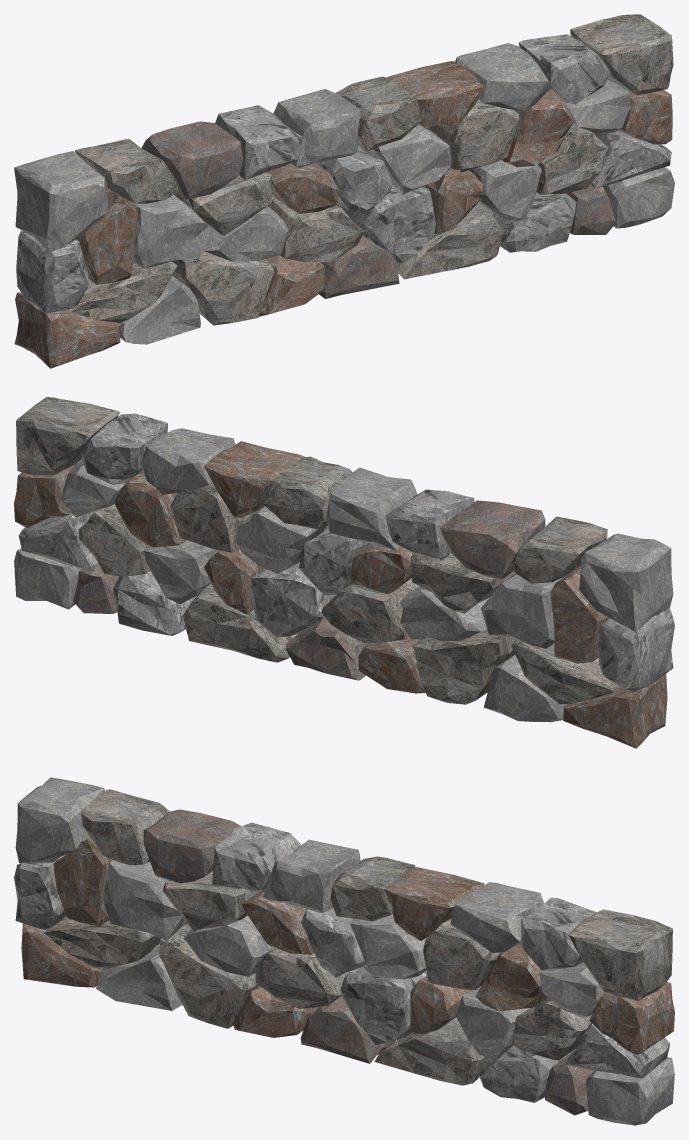
File: drystone_wall_03_basalt.fbx
3 renders of one model, top to bottom at view 1: azimuth 30°, elevation 25°; view 2: azimuth 150°, elevation 25°; view 3: azimuth 330°, elevation 25°, orthographic.
Visible parts, largest first — view 1: Component_1_1, Component_10_1, Component_3_1, Component_36_1, Component_38_1, Component_5_1, Component_21_1, Component_25_1, Component_8_1, Component_19_1, Component_7_1, Component_33_1 (+26 smaller); view 2: Component_1_1, Component_10_1, Component_3_1, Component_36_1, Component_5_1, Component_21_1, Component_38_1, Component_33_1, Component_7_1, Component_8_1, Component_25_1, Component_19_1 (+26 smaller); view 3: Component_10_1, Component_1_1, Component_36_1, Component_3_1, Component_5_1, Component_33_1, Component_19_1, Component_8_1, Component_2_1, Component_30_1, Component_7_1, Component_25_1 (+26 smaller).
Part boxes in pixels (x1=…): Component_1_1: x1=14, y1=151, x2=108, y2=252; Component_10_1: x1=570, y1=14, x2=673, y2=94; Component_3_1: x1=141, y1=121, x2=243, y2=199; Component_36_1: x1=172, y1=250, x2=274, y2=325; Component_38_1: x1=14, y1=292, x2=120, y2=368; Component_5_1: x1=273, y1=89, x2=360, y2=167; Component_21_1: x1=16, y1=230, x2=88, y2=313; Component_25_1: x1=336, y1=185, x2=435, y2=262; Component_8_1: x1=455, y1=43, x2=552, y2=111; Component_19_1: x1=132, y1=195, x2=208, y2=268; Component_7_1: x1=387, y1=61, x2=484, y2=134; Component_33_1: x1=397, y1=202, x2=503, y2=279; Component_1_1: x1=579, y1=533, x2=673, y2=632; Component_10_1: x1=16, y1=397, x2=120, y2=475; Component_3_1: x1=440, y1=500, x2=545, y2=578; Component_36_1: x1=413, y1=629, x2=515, y2=704; Component_5_1: x1=326, y1=467, x2=417, y2=550; Component_21_1: x1=597, y1=608, x2=674, y2=691; Component_38_1: x1=563, y1=674, x2=667, y2=748; Component_33_1: x1=183, y1=583, x2=298, y2=662; Component_7_1: x1=204, y1=441, x2=304, y2=517; Component_8_1: x1=140, y1=428, x2=234, y2=494; Component_25_1: x1=250, y1=562, x2=336, y2=637; Component_19_1: x1=481, y1=574, x2=562, y2=648; Component_10_1: x1=568, y1=909, x2=672, y2=1000; Component_1_1: x1=15, y1=777, x2=104, y2=862; Component_36_1: x1=159, y1=923, x2=259, y2=1028; Component_3_1: x1=143, y1=809, x2=240, y2=883; Component_5_1: x1=263, y1=839, x2=360, y2=912; Component_33_1: x1=374, y1=1017, x2=491, y2=1085; Component_19_1: x1=104, y1=860, x2=186, y2=940; Component_8_1: x1=450, y1=882, x2=543, y2=952; Component_2_1: x1=81, y1=789, x2=169, y2=865; Component_30_1: x1=586, y1=1057, x2=674, y2=1125; Component_7_1: x1=384, y1=867, x2=484, y2=940; Component_25_1: x1=340, y1=964, x2=427, y2=1044.
Bounding box in the file's own units: 2215 × 625 × 240.
